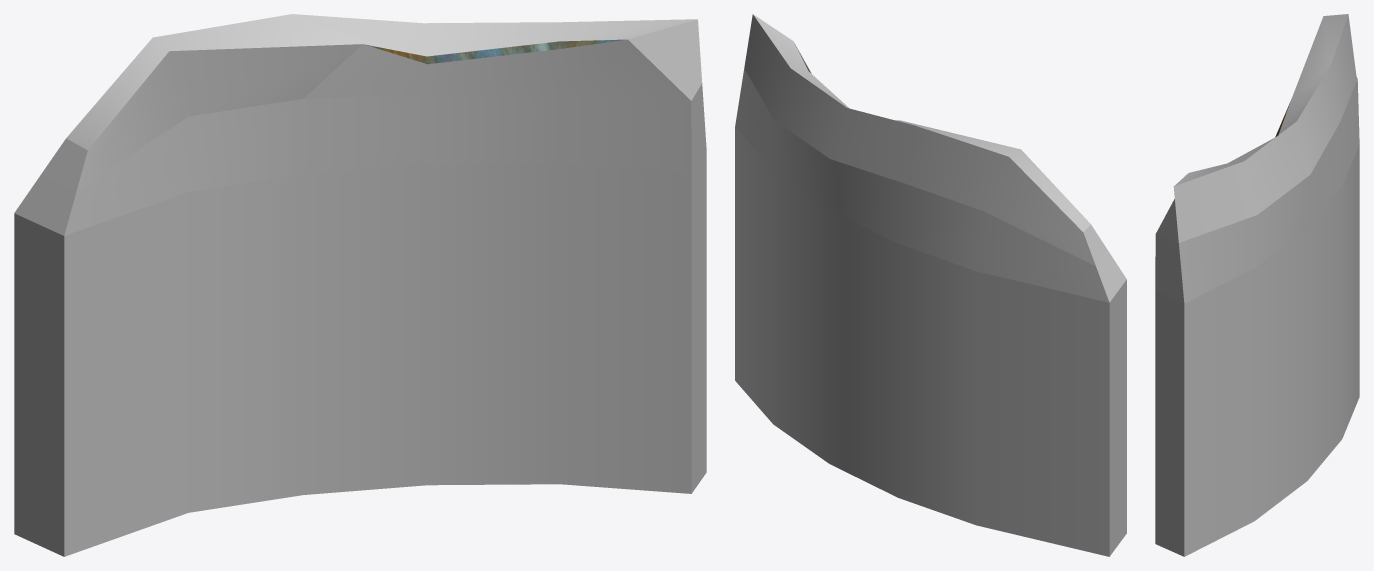
The model's file is Str_Ruins_08_Art.fbx.
3 renders of one model, left to right at view 1: azimuth 30°, elevation 25°; view 2: azimuth 150°, elevation 25°; view 3: azimuth 270°, elevation 25°, orthographic. The views are drawn at different scales.
Parts seen in each view (by area): view 1: Str_Ruins_08; view 2: Str_Ruins_08; view 3: Str_Ruins_08.
Boxes of the visible parts, x1,y1,x2,y2 form: Str_Ruins_08: [14, 14, 706, 556]; Str_Ruins_08: [735, 14, 1126, 556]; Str_Ruins_08: [1155, 14, 1359, 556].
Bounding box in the file's own units: 760 × 584 × 292.
